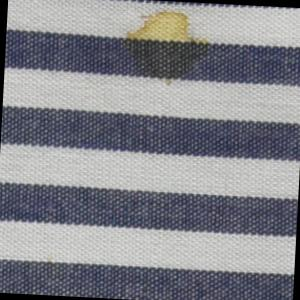Oil Stain: (118, 8, 213, 91)
